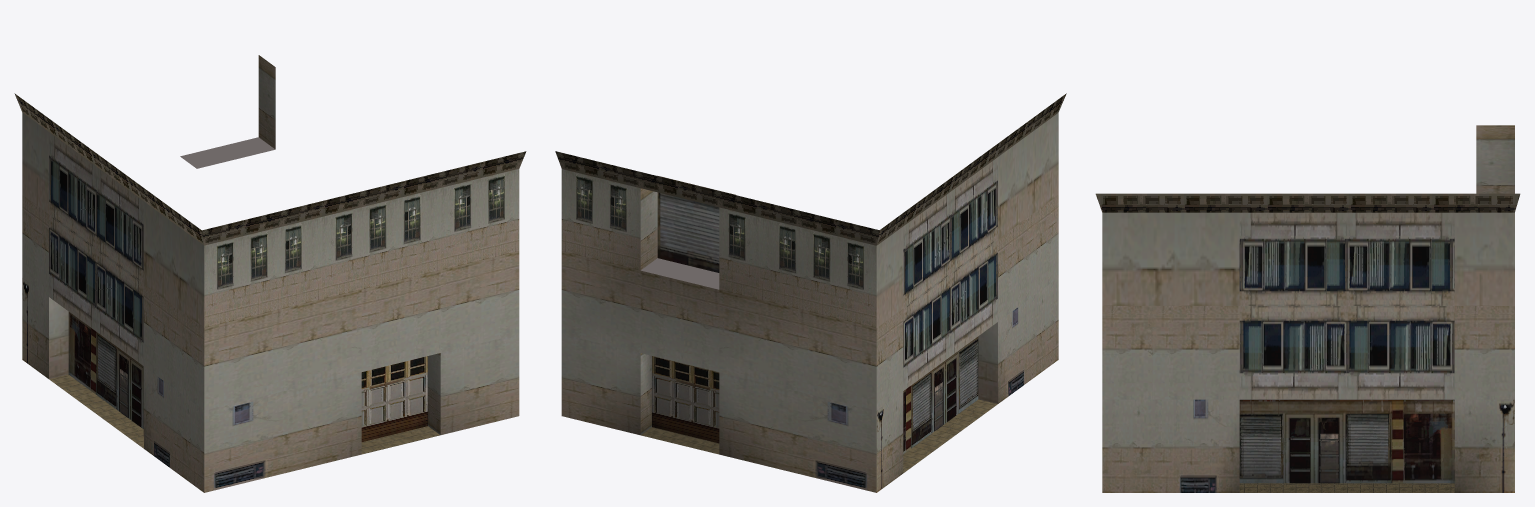
File: M2Zone1_Parade2.glb
The picture shows the model from 3 angles, left to right: view 1: azimuth 30°, elevation 25°; view 2: azimuth 150°, elevation 25°; view 3: azimuth 270°, elevation 25°; orthographic projection. The views are drawn at different scales.
Visible parts, largest first — view 1: M2ZONE1_PARADE2; view 2: M2ZONE1_PARADE2; view 3: M2ZONE1_PARADE2.
Boxes of the visible parts, left/top/right/bottom form: M2ZONE1_PARADE2: left=14, top=55, right=526, bottom=492; M2ZONE1_PARADE2: left=555, top=93, right=1066, bottom=492; M2ZONE1_PARADE2: left=1095, top=125, right=1520, bottom=492.
Size of the model in its own units: 16.48 by 12.91 by 16.48.
9 materials, 9 textured.
